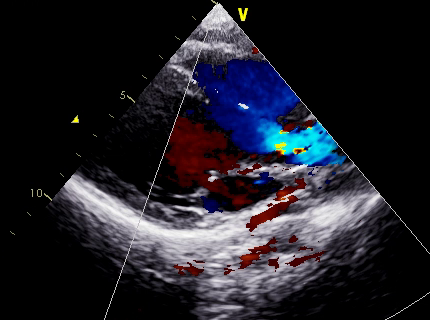AR: (184, 103, 244, 183)
